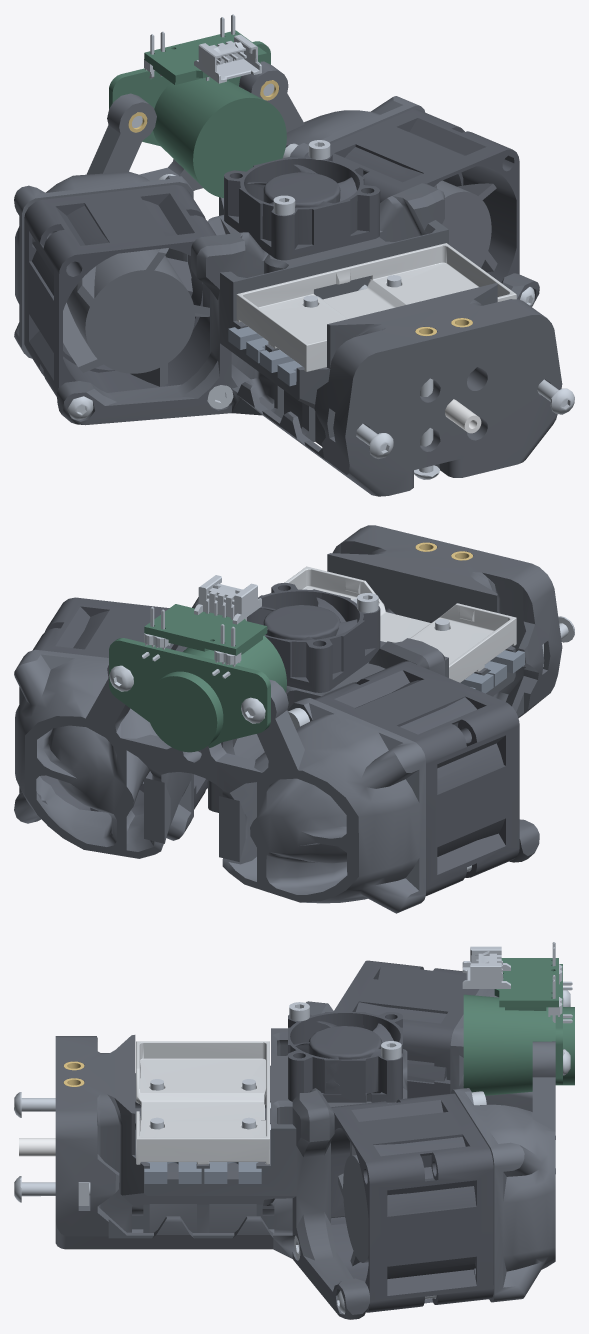
The picture shows the model from 3 angles, top to bottom: view 1: azimuth 30°, elevation 25°; view 2: azimuth 150°, elevation 25°; view 3: azimuth 270°, elevation 25°; orthographic projection. The views are drawn at different scales.
Parts seen in each view (by area): view 1: trinity_unibody, delta_3628_1, delta_3628_2, monolith_slm_belt_clamp, delta_3628_53, trinity_ducts, beacon_probe_51, delta_2510_hef_3, delta_3628_54, delta_2510_hef_4, beacon_probe_42, beacon_probe_52 (+6 smaller); view 2: trinity_ducts, delta_3628_1, trinity_unibody, beacon_probe_51, monolith_slm_belt_clamp, delta_2510_hef_3, delta_3628_53, beacon_probe_52, delta_2510_hef_4, beacon_probe_42, apex_clip_35, fastener_28 (+1 smaller); view 3: trinity_unibody, delta_3628_53, trinity_ducts, monolith_slm_belt_clamp, delta_3628_1, beacon_probe_51, delta_2510_hef_3, beacon_probe_52, delta_2510_hef_4, delta_3628_54, beacon_probe_42, apex_clip_83 (+4 smaller).
Part boxes in pixels (x1=…): trinity_unibody: x1=57, y1=183, x2=562, y2=496; delta_3628_1: x1=24, y1=184, x2=216, y2=396; delta_3628_2: x1=63, y1=248, x2=209, y2=386; monolith_slm_belt_clamp: x1=236, y1=243, x2=516, y2=371; delta_3628_53: x1=330, y1=109, x2=519, y2=282; trinity_ducts: x1=14, y1=61, x2=425, y2=358; beacon_probe_51: x1=109, y1=41, x2=286, y2=197; delta_2510_hef_3: x1=224, y1=153, x2=380, y2=260; delta_3628_54: x1=434, y1=180, x2=497, y2=272; delta_2510_hef_4: x1=247, y1=164, x2=356, y2=207; beacon_probe_42: x1=194, y1=34, x2=261, y2=83; beacon_probe_52: x1=144, y1=30, x2=267, y2=84; trinity_ducts: x1=14, y1=649, x2=425, y2=913; delta_3628_1: x1=314, y1=661, x2=519, y2=895; trinity_unibody: x1=192, y1=525, x2=562, y2=862; beacon_probe_51: x1=109, y1=635, x2=286, y2=752; monolith_slm_belt_clamp: x1=270, y1=566, x2=516, y2=682; delta_2510_hef_3: x1=247, y1=582, x2=380, y2=692; delta_3628_53: x1=32, y1=597, x2=207, y2=815; beacon_probe_52: x1=144, y1=604, x2=267, y2=655; delta_2510_hef_4: x1=259, y1=597, x2=357, y2=640; beacon_probe_42: x1=194, y1=575, x2=261, y2=624; apex_clip_35: x1=484, y1=650, x2=524, y2=686; fastener_28: x1=241, y1=697, x2=265, y2=723; trinity_unibody: x1=55, y1=1001, x2=407, y2=1319; delta_3628_53: x1=331, y1=1093, x2=493, y2=1312; trinity_ducts: x1=450, y1=989, x2=555, y2=1302; monolith_slm_belt_clamp: x1=136, y1=1041, x2=269, y2=1164; delta_3628_1: x1=333, y1=960, x2=479, y2=1098; beacon_probe_51: x1=463, y1=964, x2=574, y2=1095; delta_2510_hef_3: x1=288, y1=1012, x2=402, y2=1102; beacon_probe_52: x1=494, y1=958, x2=558, y2=1010; delta_2510_hef_4: x1=293, y1=1021, x2=393, y2=1059; delta_3628_54: x1=338, y1=1142, x2=368, y2=1266; beacon_probe_42: x1=462, y1=946, x2=510, y2=988; apex_clip_83: x1=144, y1=1162, x2=201, y2=1183.
Size of the model in its own units: 0.1143 by 0.0629 by 0.1222.
